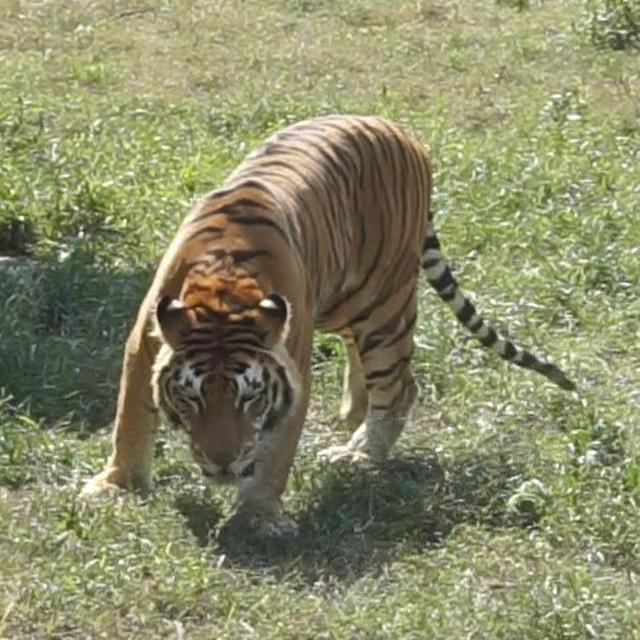tiger: (71, 101, 592, 556)
